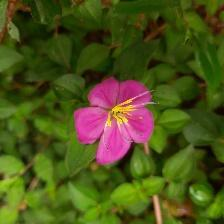malabar melastome: (72, 76, 157, 166)
